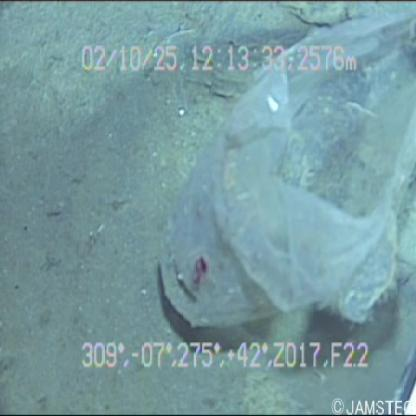Rác: (138, 1, 416, 360)
